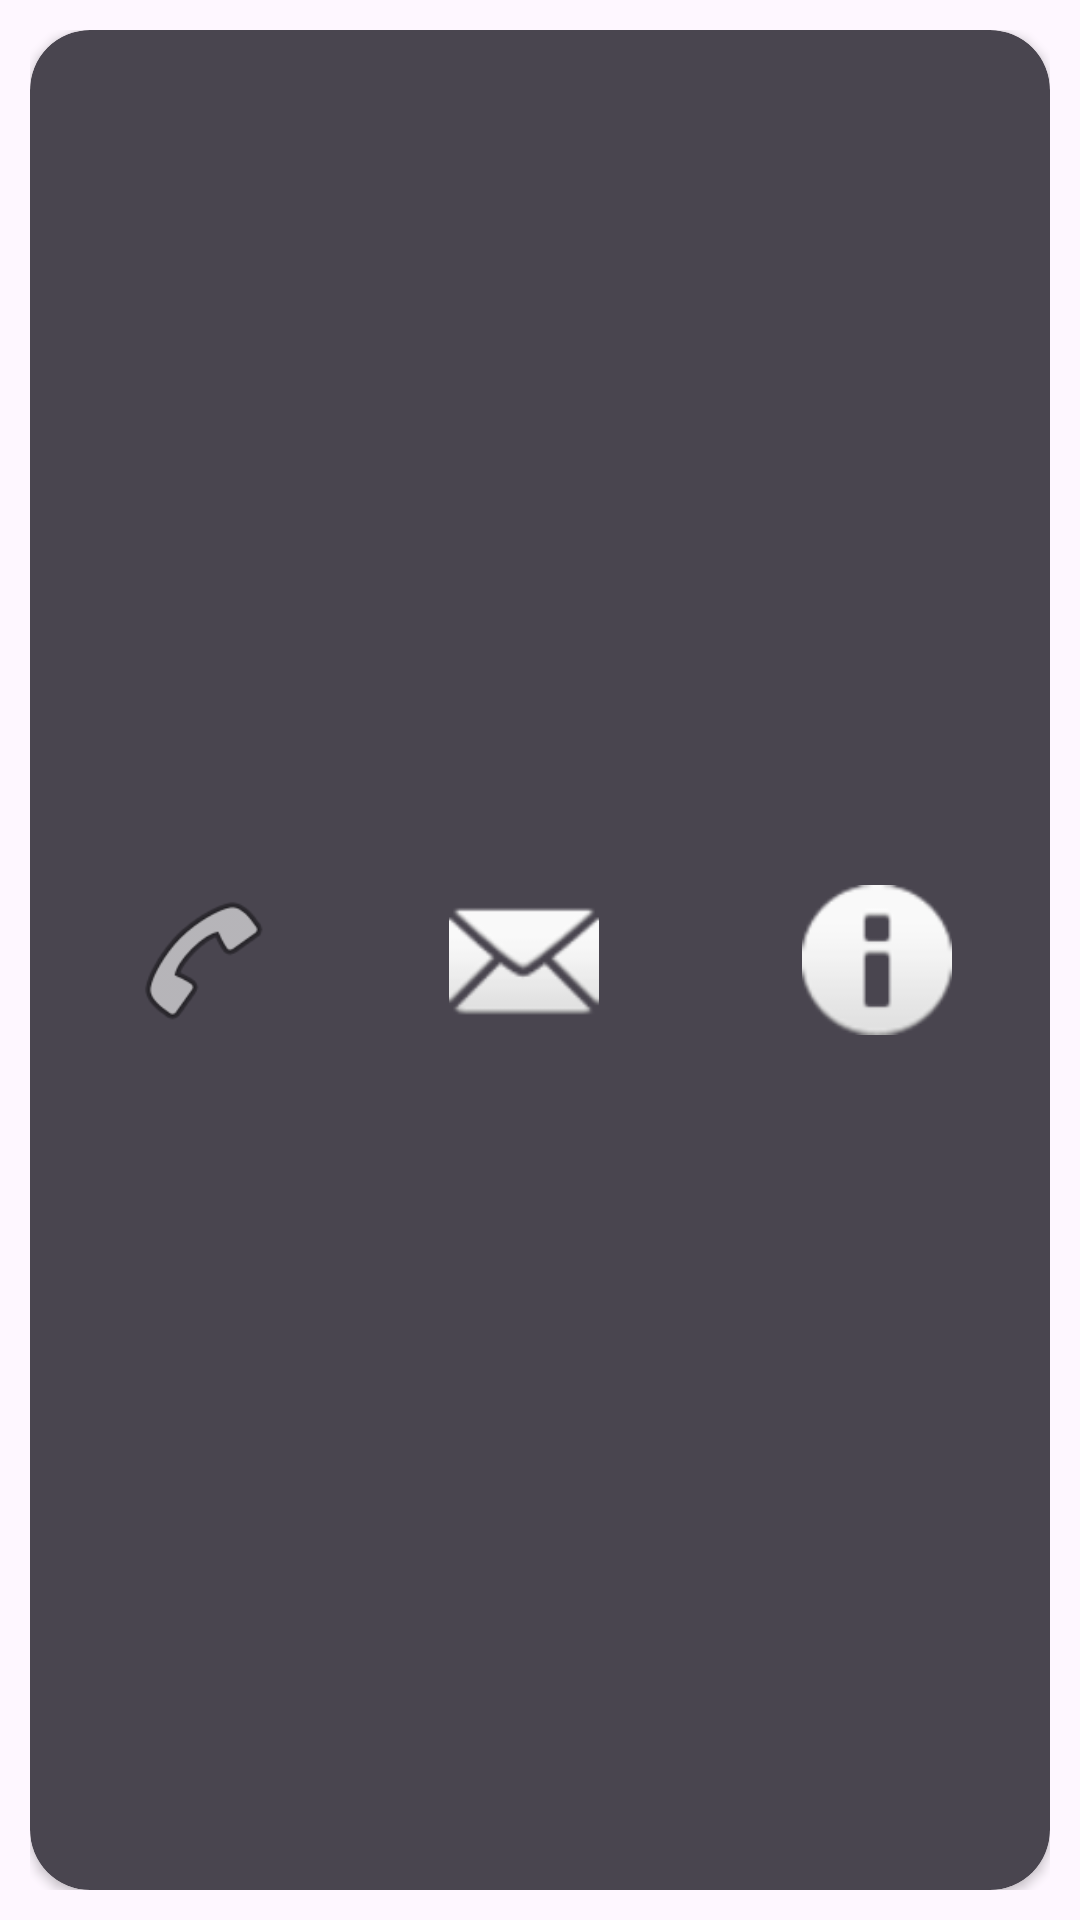

Where icons sit on this 1080px×1920px app screen, as (x1, y1, x2, y2):
Button Call: (147, 904, 261, 1018)
Button Info: (802, 885, 952, 1035)
Button Message: (449, 908, 599, 1014)
